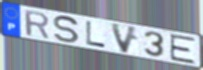3: (142, 30, 166, 58)
E: (168, 33, 197, 65)
L: (85, 20, 107, 49)
R: (23, 9, 52, 40)
S: (53, 15, 81, 45)
V: (109, 21, 140, 55)
